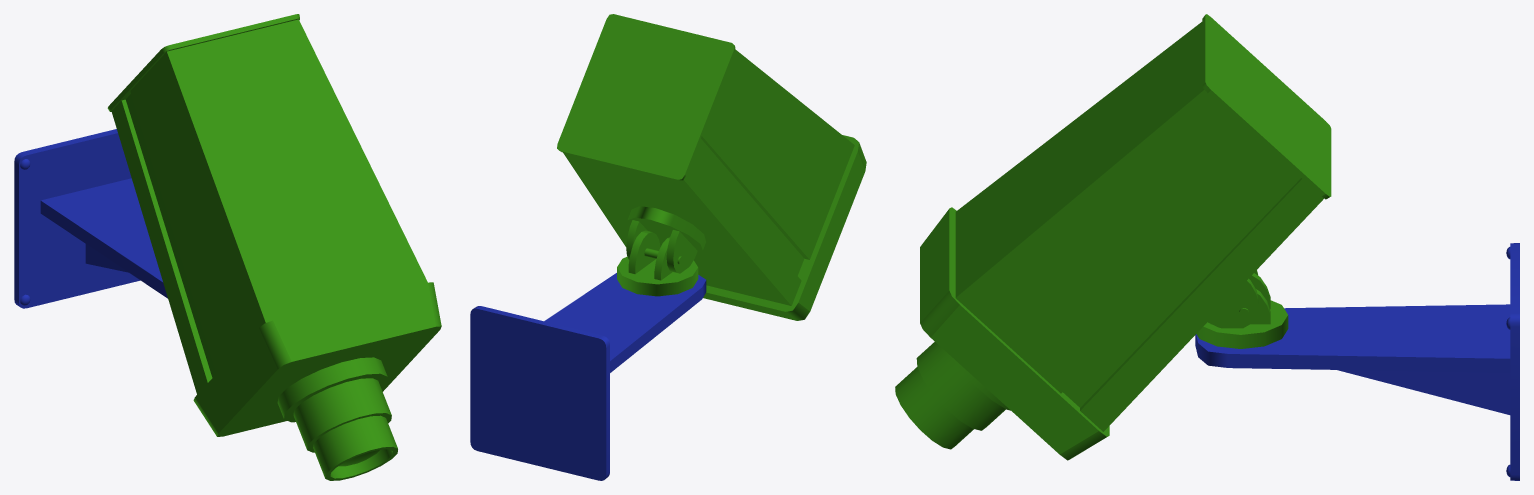
File: ScurityCamReduced.fbx
3 views of the same model, side by side, from view 1: azimuth 30°, elevation 25°; view 2: azimuth 150°, elevation 25°; view 3: azimuth 270°, elevation 25° (orthographic). The views are drawn at different scales.
Parts seen in each view (by area): view 1: NormalCamera_LowPoly, Wall_Low; view 2: NormalCamera_LowPoly, Wall_Low; view 3: NormalCamera_LowPoly, Wall_Low.
Part boxes in pixels (x1,y1,x2,y2): NormalCamera_LowPoly: (107,14,441,480); Wall_Low: (14,129,167,308); NormalCamera_LowPoly: (557,14,866,320); Wall_Low: (470,273,706,480); NormalCamera_LowPoly: (895,14,1331,460); Wall_Low: (1195,243,1519,480).
Bounding box in the file's own units: 7.33 × 14.79 × 21.11.
